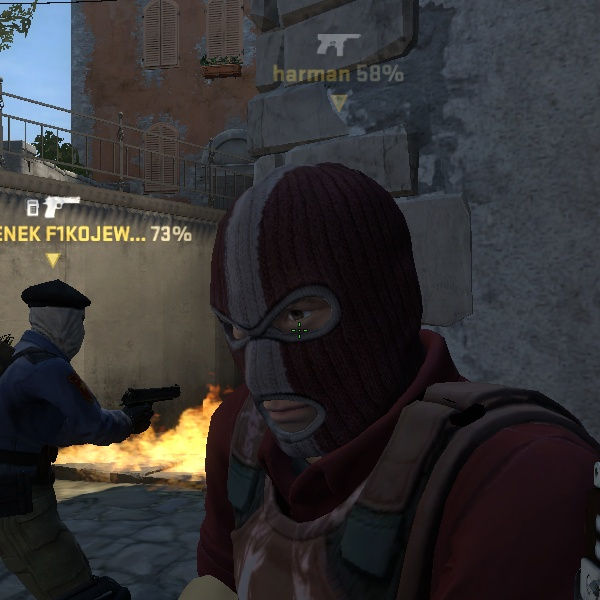ct_body: (3, 269, 149, 596)
ct_head: (5, 273, 104, 369)
